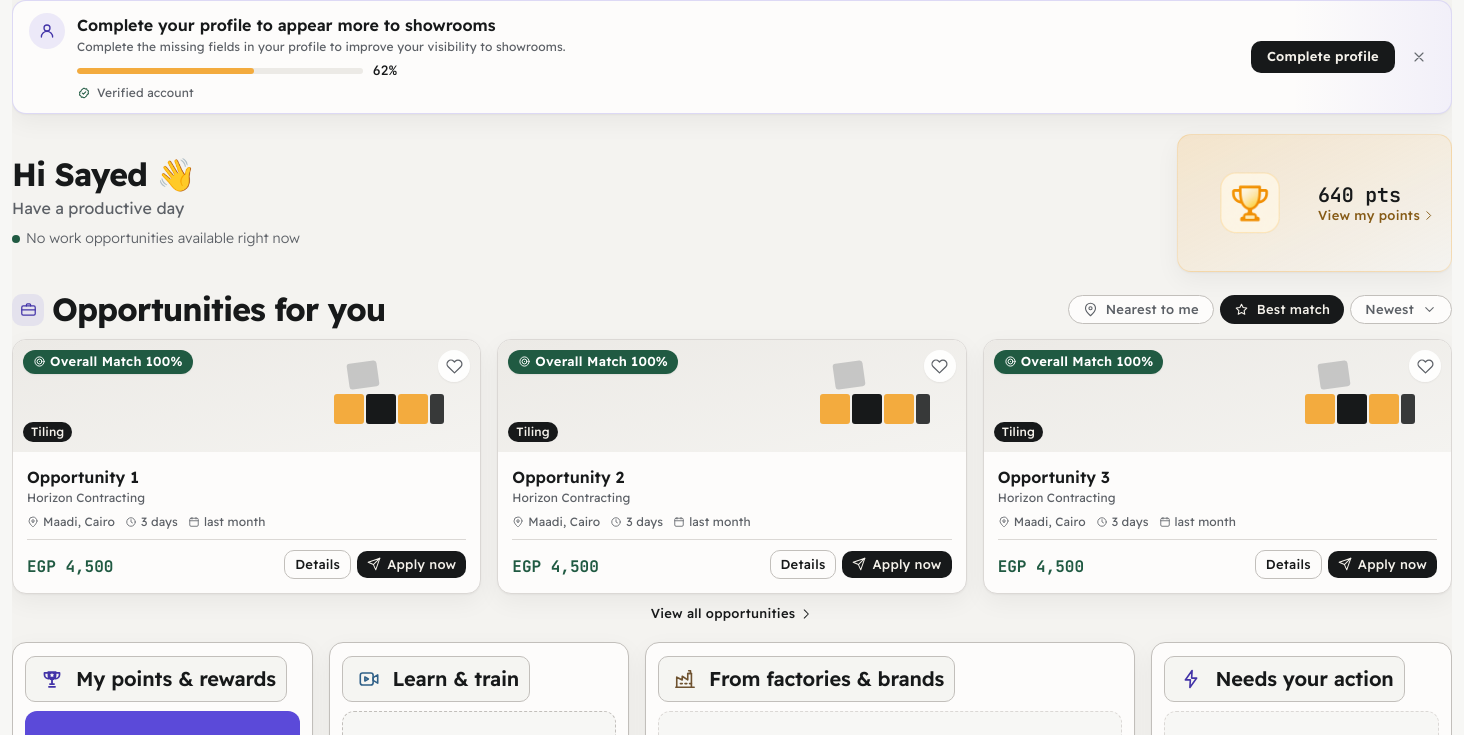
Test: installer dashboard — the quick filters are real database orderings › a failed load keeps the cards and the previous filter, and says so
Click the button "Nearest to me".
click(1141, 310)  # box [1068,295,1214,324]
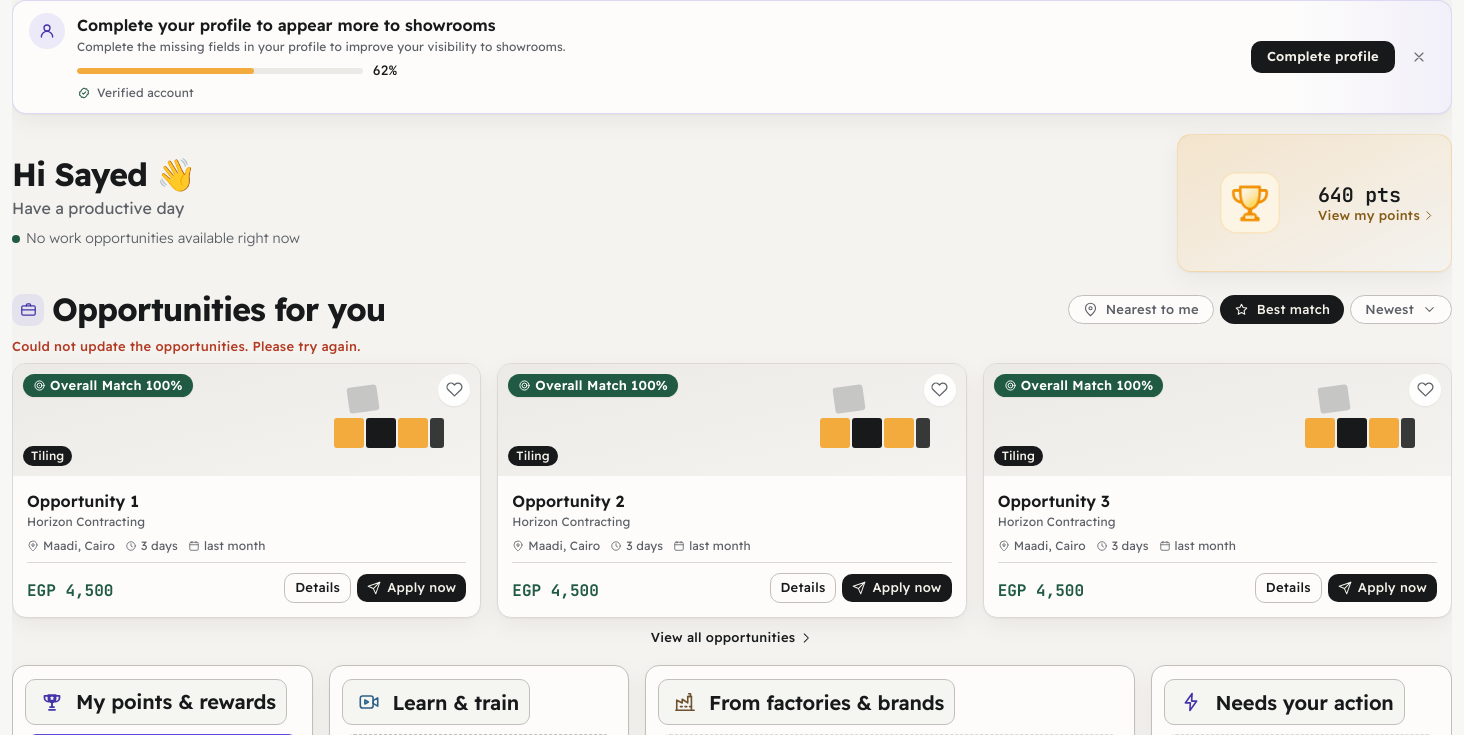
Result: the message shows "Could not update the opportunities" at [12,338,360,354]
